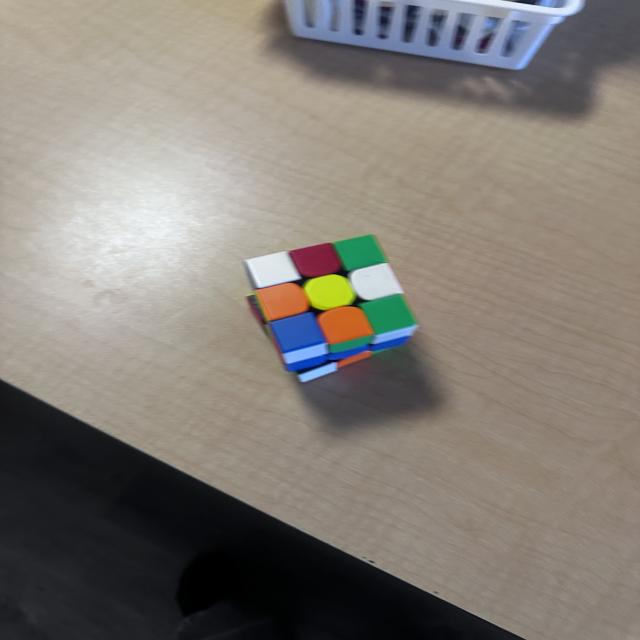sticker: (268, 312, 330, 371), (356, 293, 418, 350), (316, 304, 376, 354), (242, 250, 302, 291), (346, 262, 406, 303), (253, 281, 311, 322), (331, 233, 386, 273), (303, 274, 357, 312), (288, 242, 342, 279), (280, 351, 329, 373), (326, 334, 374, 356), (294, 361, 338, 383), (325, 344, 370, 362), (337, 350, 373, 369)
